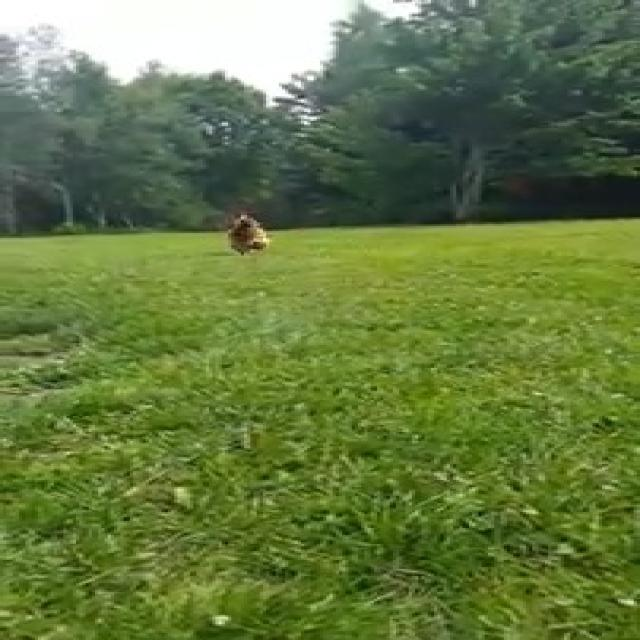running: (219, 217, 288, 259)
